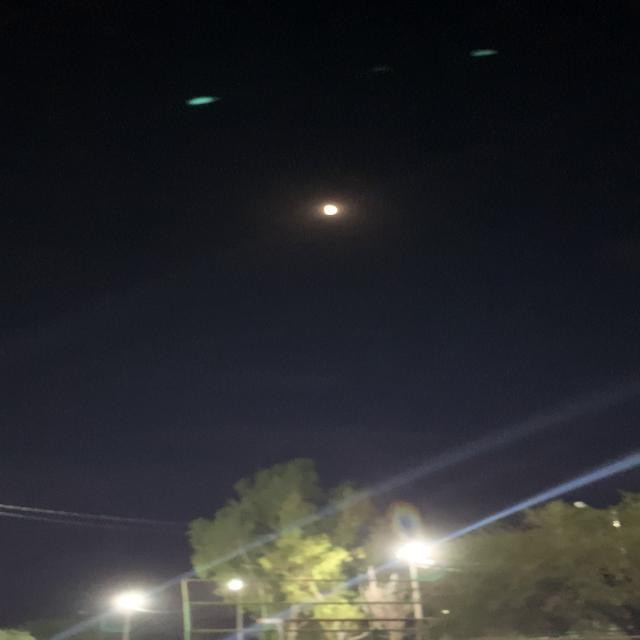moon: (305, 199, 361, 227)
